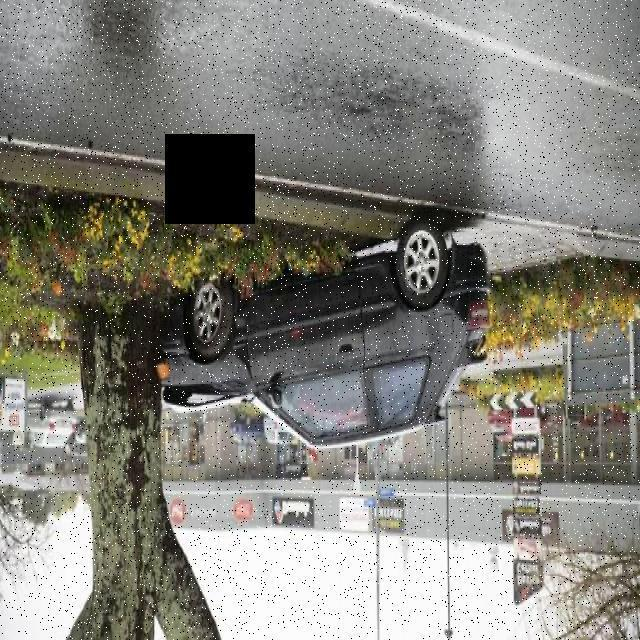vehicle: (164, 187, 507, 506)
